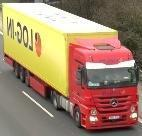truck: (2, 3, 139, 131)
